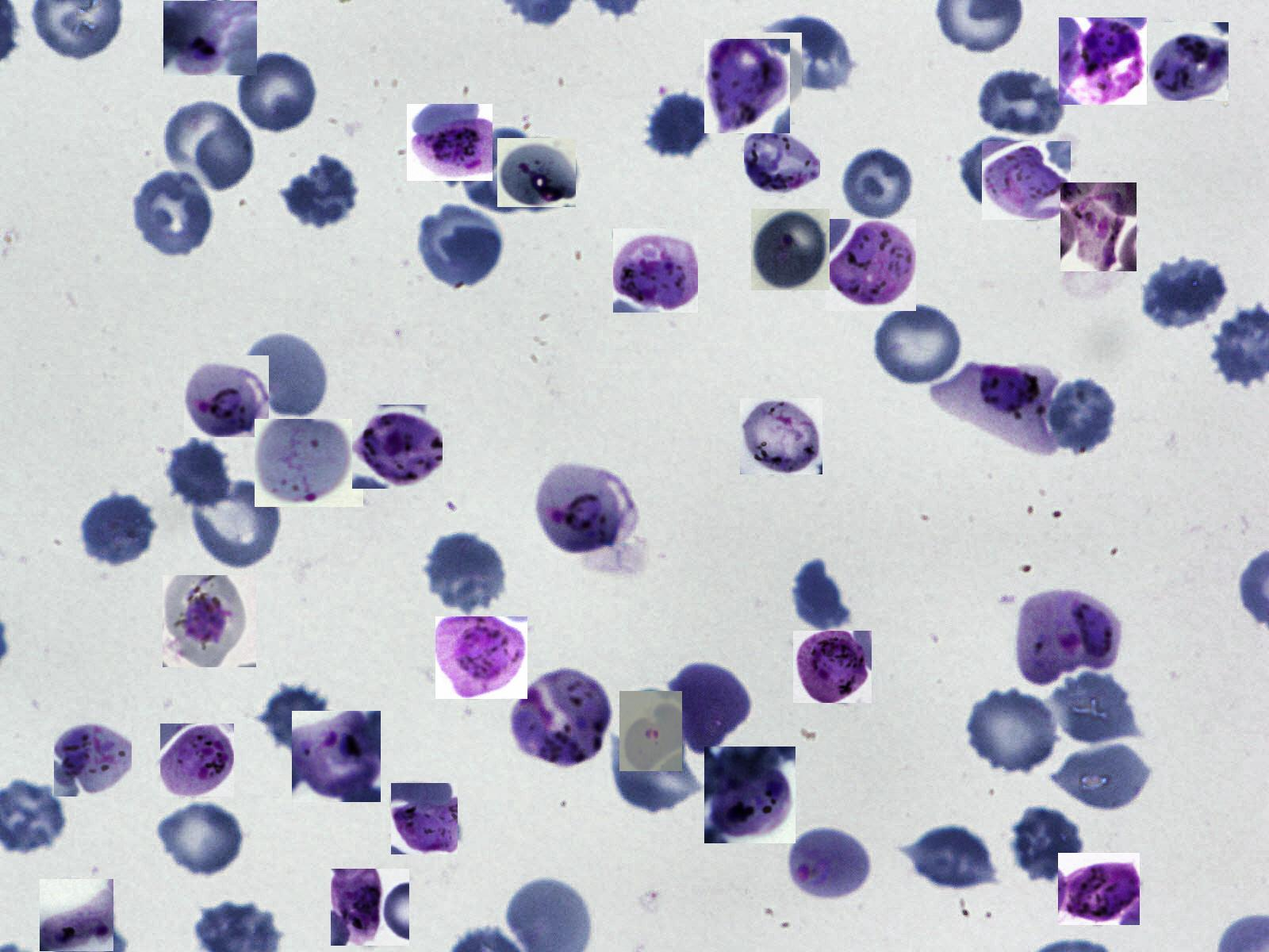Infected: (928, 360, 1059, 457), (513, 665, 615, 768), (1012, 590, 1122, 682), (535, 459, 639, 553), (255, 419, 363, 507), (704, 747, 796, 843), (163, 575, 256, 667), (826, 219, 916, 311), (292, 711, 381, 802), (704, 39, 790, 133), (1059, 17, 1147, 105), (435, 616, 527, 699), (353, 405, 443, 489), (613, 228, 698, 313), (982, 141, 1071, 220), (184, 355, 269, 437), (163, 1, 257, 75), (788, 824, 874, 904), (1060, 182, 1137, 271), (407, 104, 493, 181), (751, 209, 830, 290), (1148, 22, 1229, 101), (740, 398, 822, 474), (331, 869, 409, 946), (723, 33, 802, 108), (1058, 853, 1140, 925), (54, 722, 132, 797), (793, 631, 872, 703), (497, 138, 576, 207), (160, 724, 234, 797), (744, 125, 820, 196), (40, 879, 113, 951), (619, 691, 682, 771), (391, 783, 458, 854)
Uninfected: (186, 473, 286, 569), (965, 684, 1063, 777), (871, 299, 967, 390), (167, 101, 255, 193), (247, 330, 332, 422), (131, 167, 216, 259), (611, 731, 700, 816), (1053, 740, 1152, 814), (234, 49, 320, 134), (420, 205, 505, 290), (422, 532, 508, 616), (673, 660, 751, 752), (761, 16, 854, 92), (155, 801, 247, 877), (1049, 670, 1138, 747), (460, 129, 541, 213), (1144, 251, 1229, 330), (907, 821, 997, 894), (840, 143, 917, 224), (80, 492, 159, 570), (1005, 804, 1080, 885), (964, 137, 1046, 209), (280, 157, 360, 230), (979, 70, 1066, 135), (1047, 376, 1117, 455), (790, 554, 852, 635), (259, 682, 329, 753), (648, 93, 716, 161), (166, 440, 228, 508)
